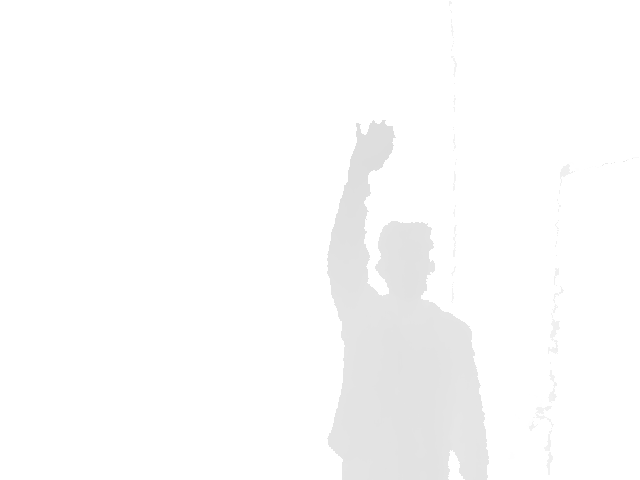hand: (354, 119, 395, 176)
head: (376, 220, 436, 304)
person: (324, 119, 491, 480)
